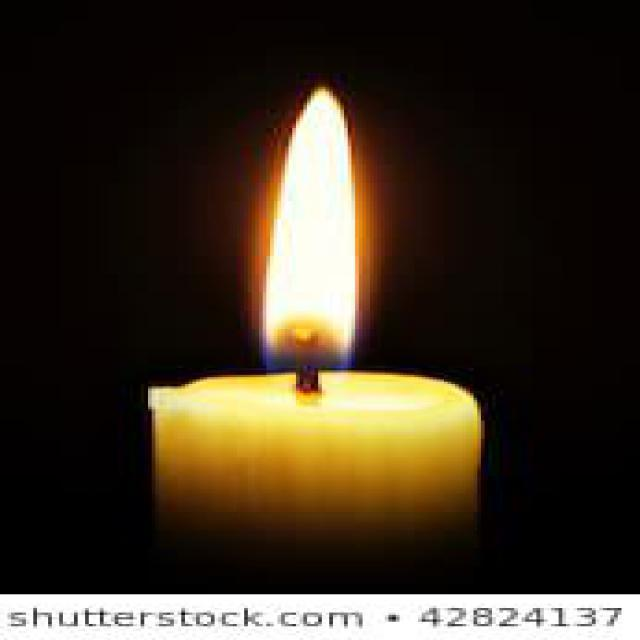Fire: (261, 86, 361, 370)
